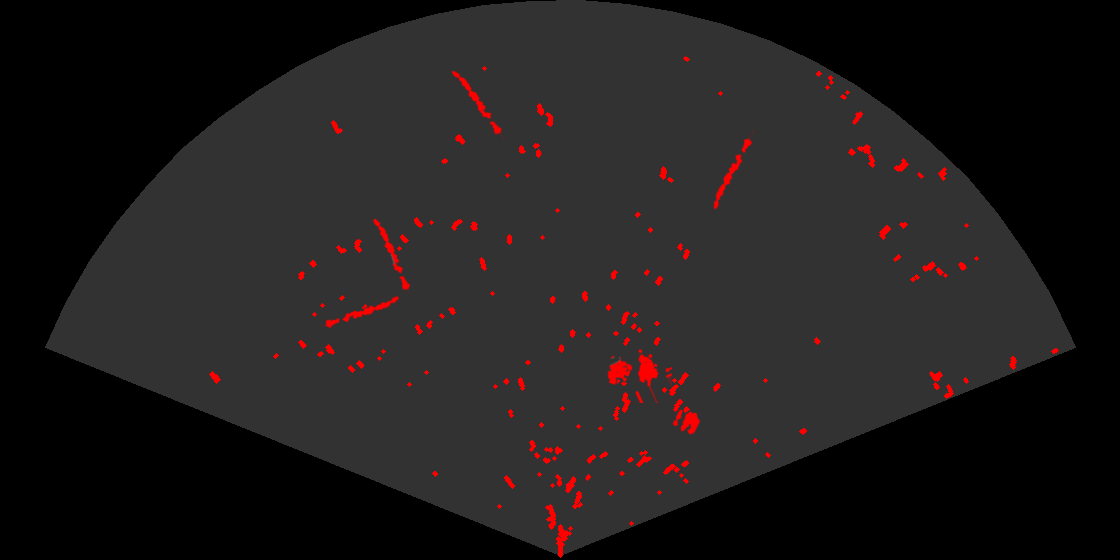ball: (671, 408, 702, 436)
cage: (606, 348, 672, 403)
chain: (450, 69, 507, 140), (712, 129, 757, 211), (371, 217, 412, 294), (321, 295, 401, 330)
